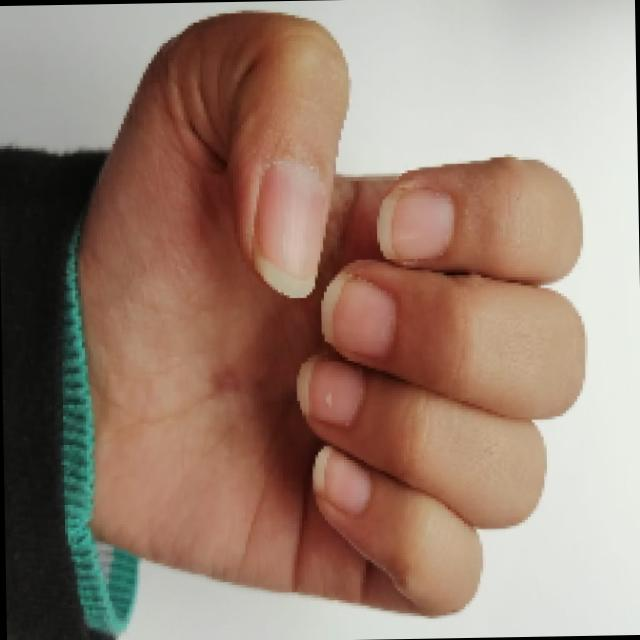Nail: (253, 159, 326, 297), (320, 272, 394, 356), (376, 188, 453, 261), (297, 356, 365, 423), (311, 445, 369, 513)
